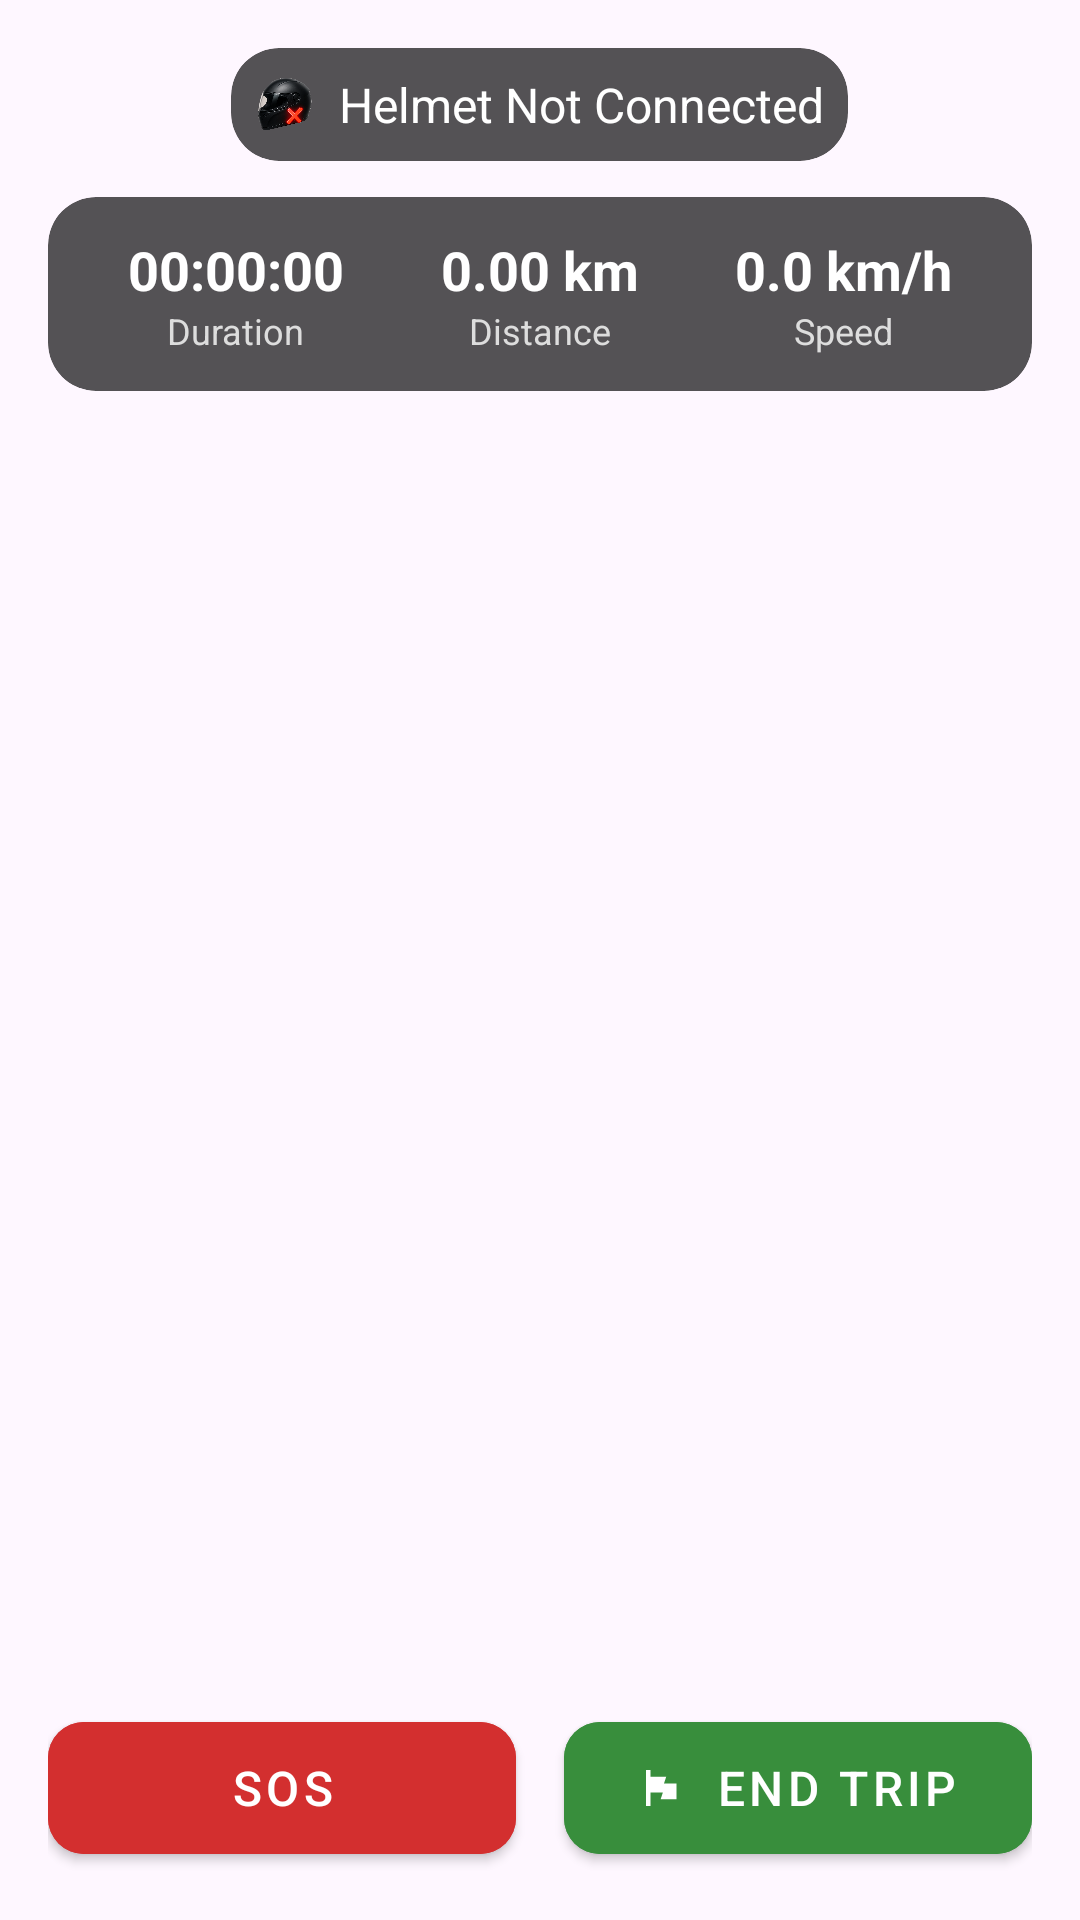

Where to tap for icons on this 1080 x 1920 app screen, as (x,y):
Helmet Status: (285,104)
